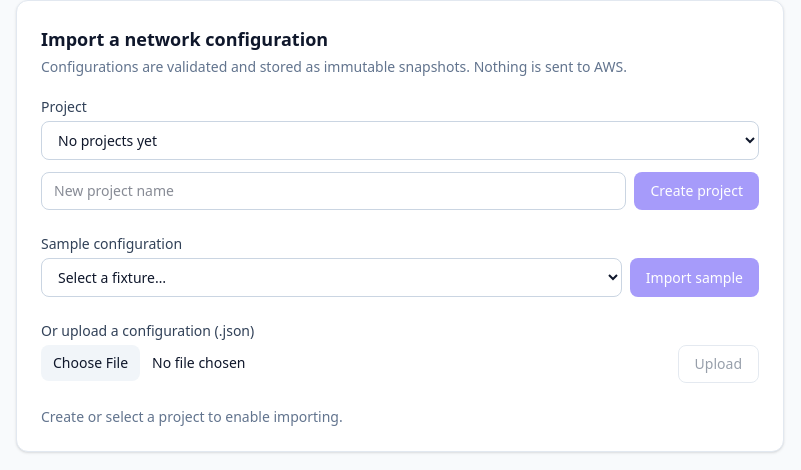
ImportPage › creates a project and selects it
Expected: the text "Create or select a project to enable importing." is shown, [41,407,343,426]
Expected: the button "Import sample" is disabled, [630,258,759,297]
Type "Hackathon" into the field labelled "New project name".
click(334, 191); type("Hackathon")  # box [41,172,626,210]
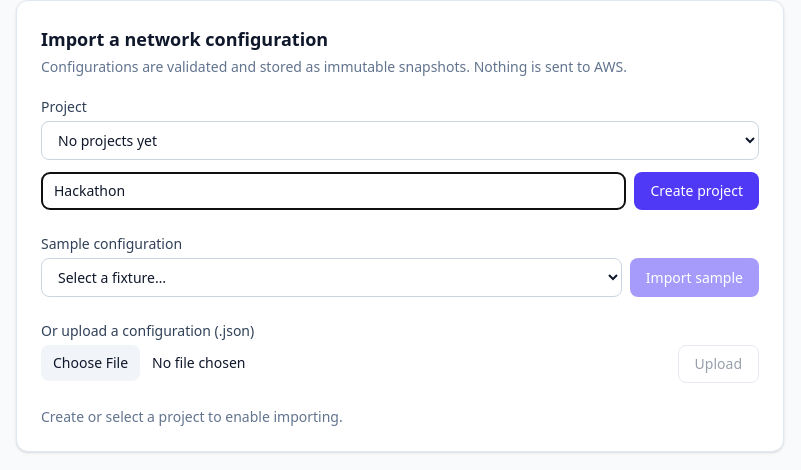
Click the button "Create project".
click(697, 191)  # box [634,172,759,210]
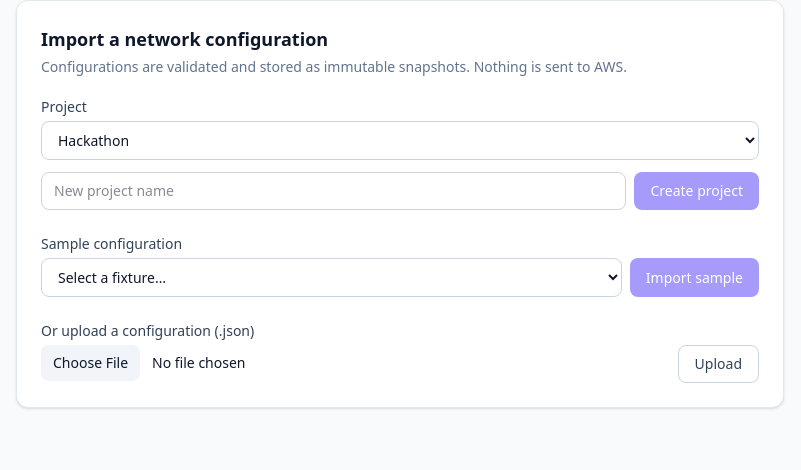
Result: the dropdown labelled "Project" shows "Hackathon" at [41,121,759,160]
